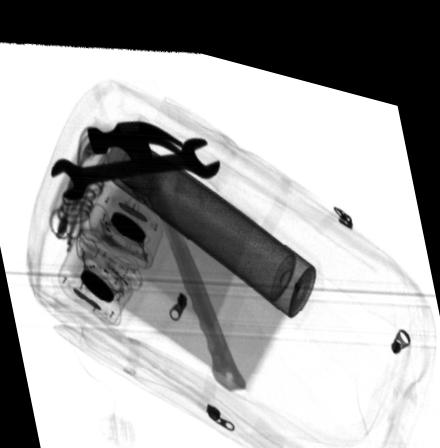Hammer: (85, 113, 246, 379)
Wrench: (50, 127, 219, 197)
